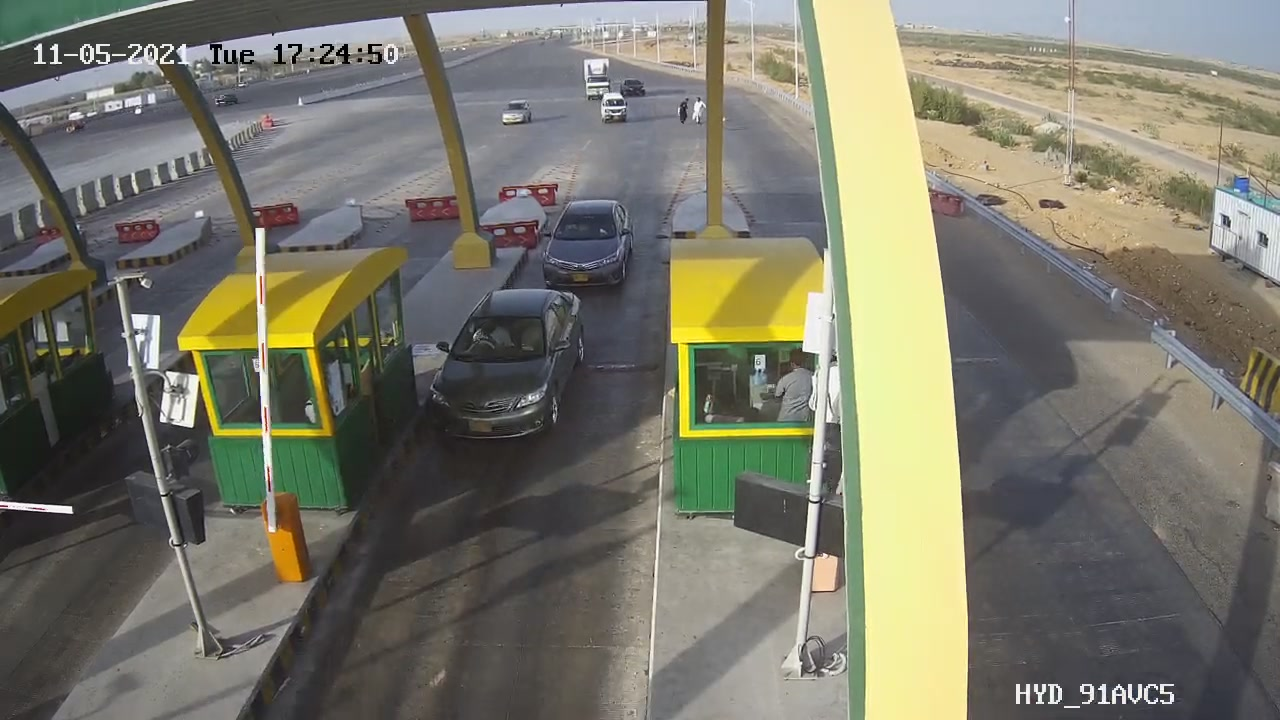F1: (412, 274, 609, 460), (521, 188, 653, 300)
